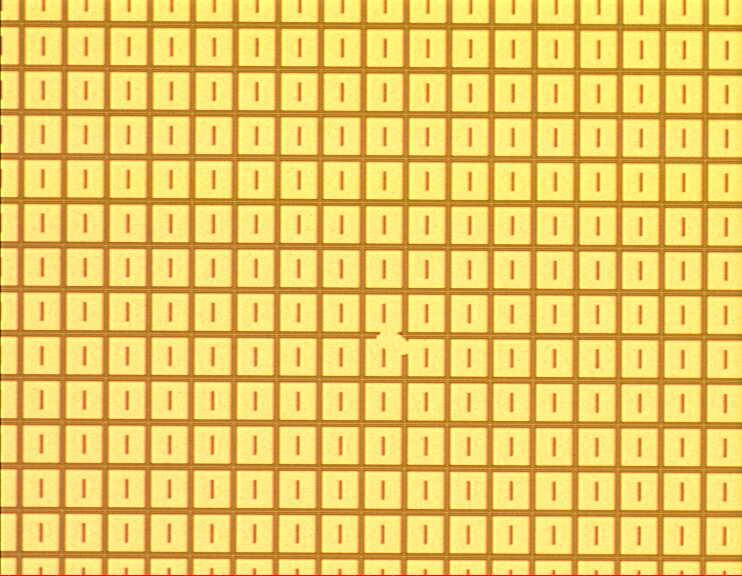BLOCK ETCH: (375, 322, 418, 360)
